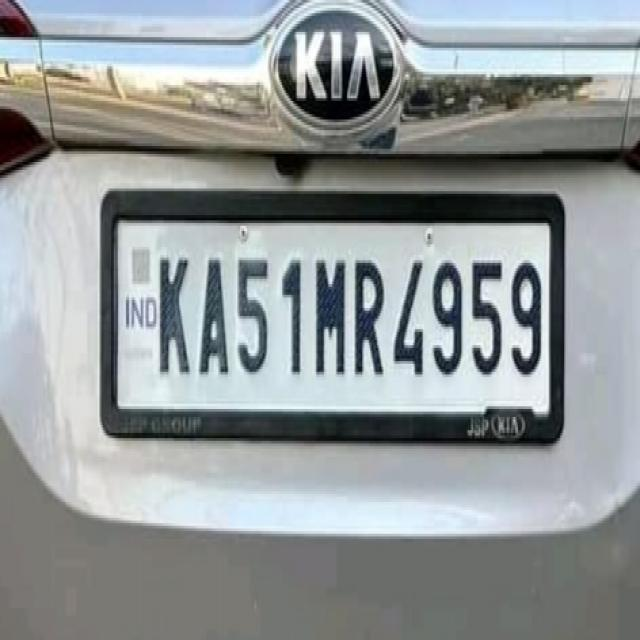1: (278, 246, 308, 395)
4: (391, 250, 428, 384)
5: (468, 252, 508, 389), (236, 246, 274, 383)
9: (430, 254, 468, 384), (510, 249, 544, 391)
A: (195, 248, 235, 390)
K: (154, 250, 196, 380)
M: (310, 243, 352, 389)
R: (351, 246, 389, 385)
